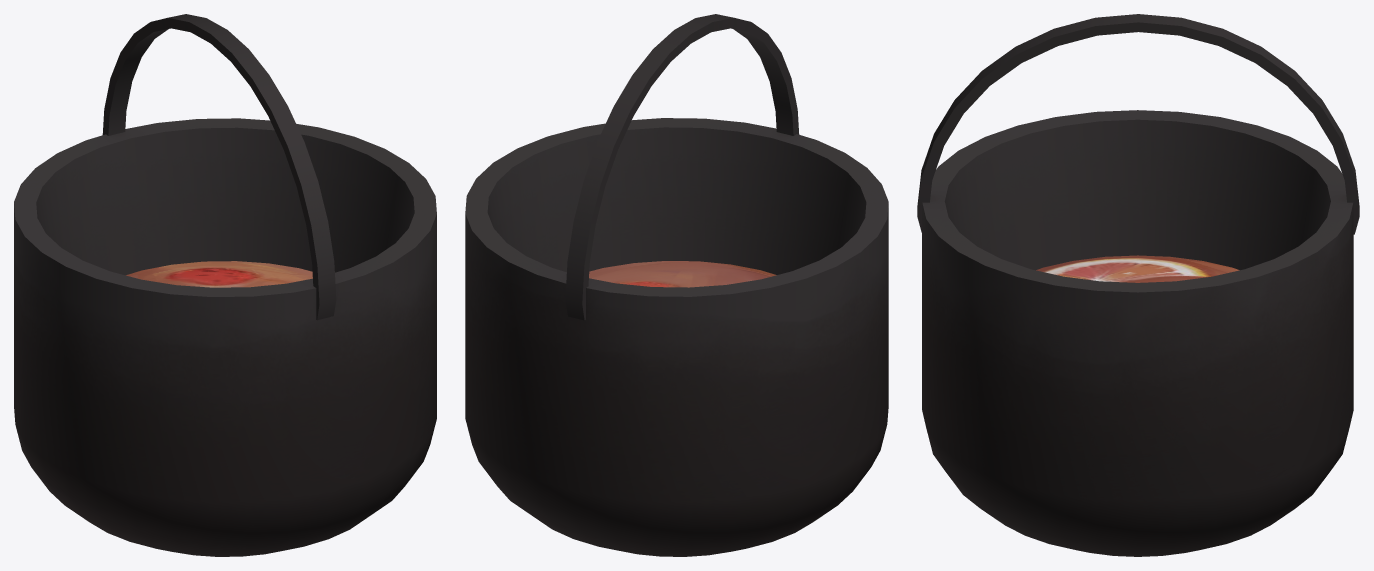
Rendered from cauldron.fbx.
The picture shows the model from 3 angles, left to right: view 1: azimuth 30°, elevation 25°; view 2: azimuth 150°, elevation 25°; view 3: azimuth 270°, elevation 25°; orthographic projection.
Parts seen in each view (by area): view 1: Cylinder.005; view 2: Cylinder.005; view 3: Cylinder.005.
Part boxes in pixels (bbox=[...]): Cylinder.005: bbox=[14, 14, 436, 556]; Cylinder.005: bbox=[465, 14, 888, 556]; Cylinder.005: bbox=[917, 14, 1359, 556].
Bounding box in the file's own units: 82.64 × 105 × 84.75.
